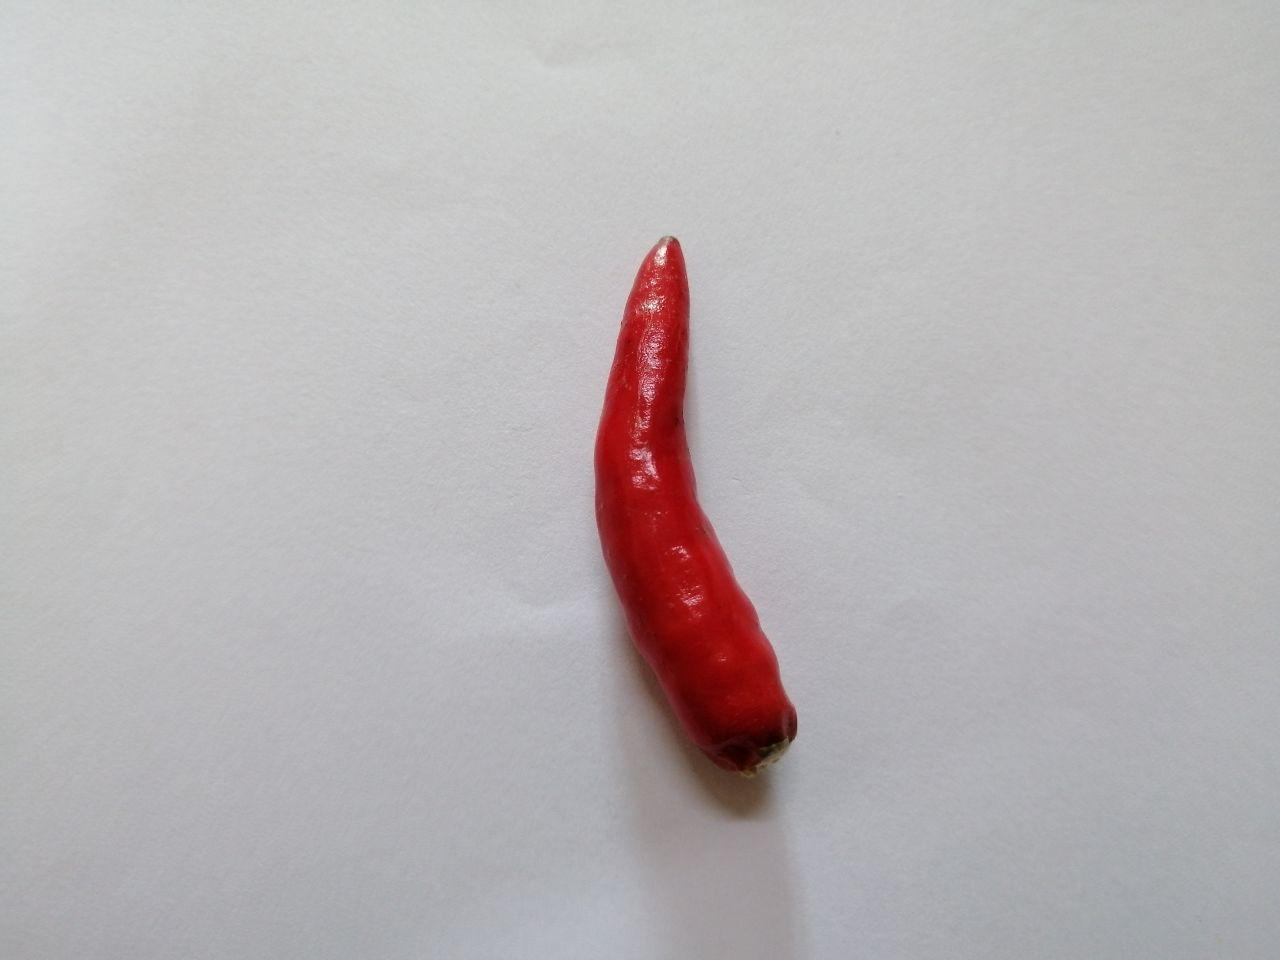lada merah: (581, 215, 828, 796)
